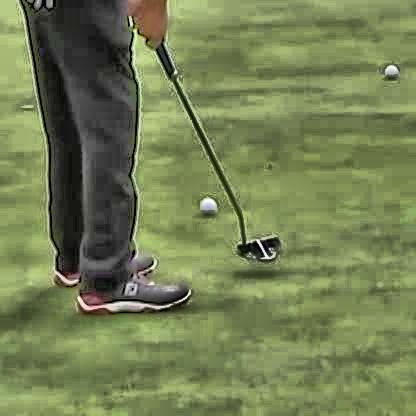golfball: (197, 192, 216, 214)
